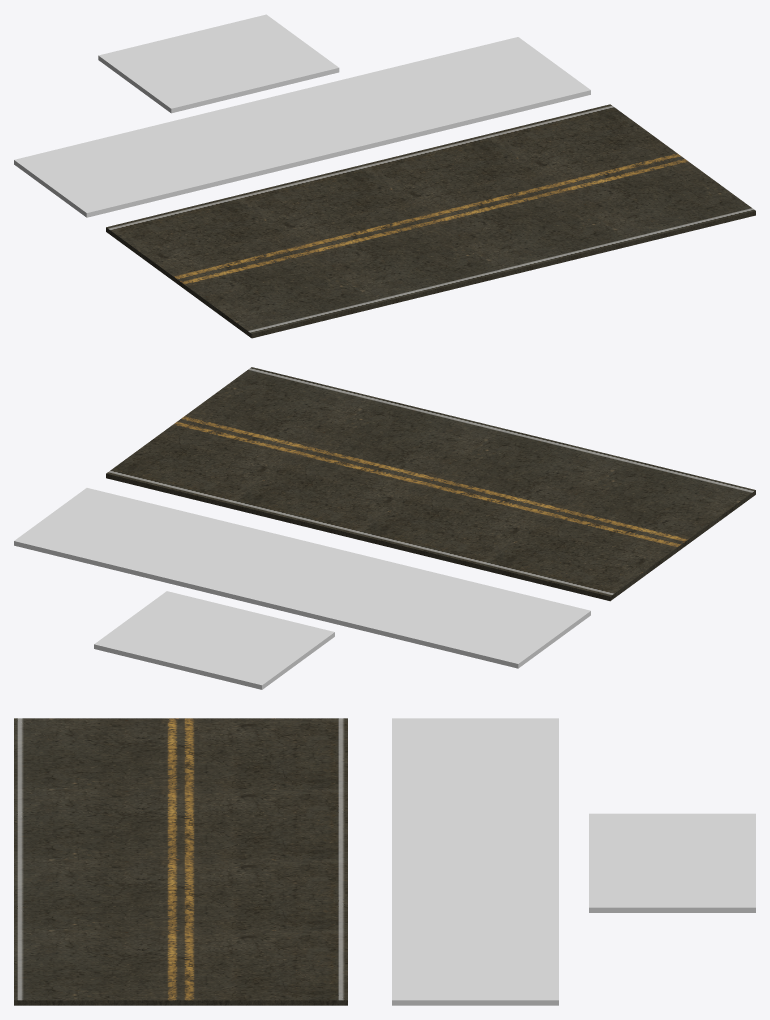
The model's file is RoadNew.fbx.
3 views of the same model, one above another, from view 1: azimuth 30°, elevation 25°; view 2: azimuth 150°, elevation 25°; view 3: azimuth 270°, elevation 25° (orthographic). The views are drawn at different scales.
Visible parts, largest first — view 1: Plane.002, Plane.001, Plane; view 2: Plane.002, Plane.001, Plane; view 3: Plane.002, Plane.001, Plane.
Boxes of the visible parts, left/top/right/bottom form: Plane.002: left=106, top=104, right=755, bottom=338; Plane.001: left=14, top=37, right=590, bottom=217; Plane: left=98, top=14, right=339, bottom=113; Plane.002: left=106, top=367, right=755, bottom=601; Plane.001: left=14, top=488, right=590, bottom=668; Plane: left=94, top=591, right=334, bottom=689; Plane.002: left=14, top=718, right=347, bottom=1005; Plane.001: left=392, top=718, right=558, bottom=1005; Plane: left=589, top=813, right=755, bottom=912.
Bounding box in the file's own units: 1795 × 15.74 × 1995.
